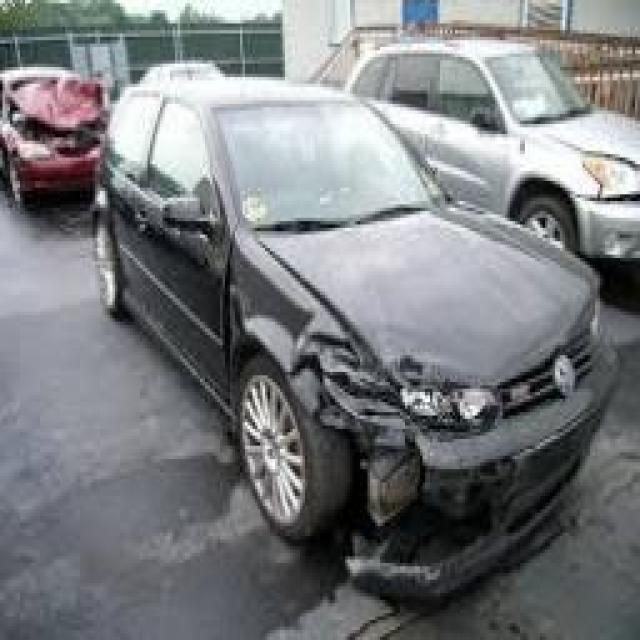replaceable: (310, 330, 505, 575)
